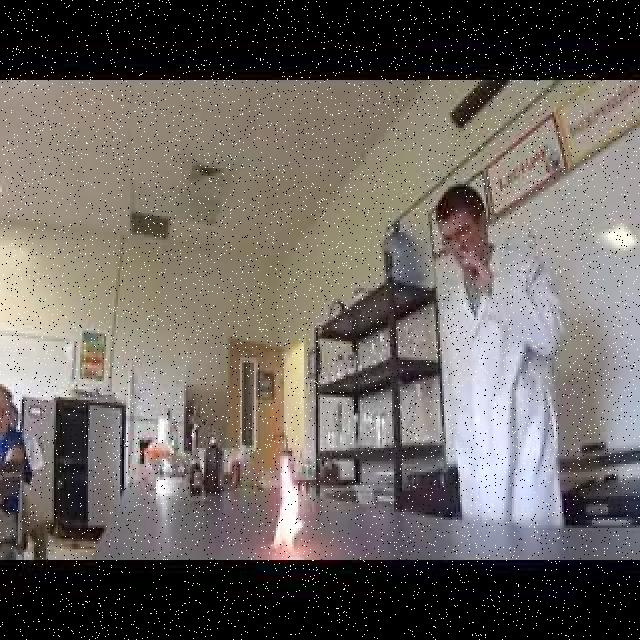fire: (274, 449, 306, 552)
